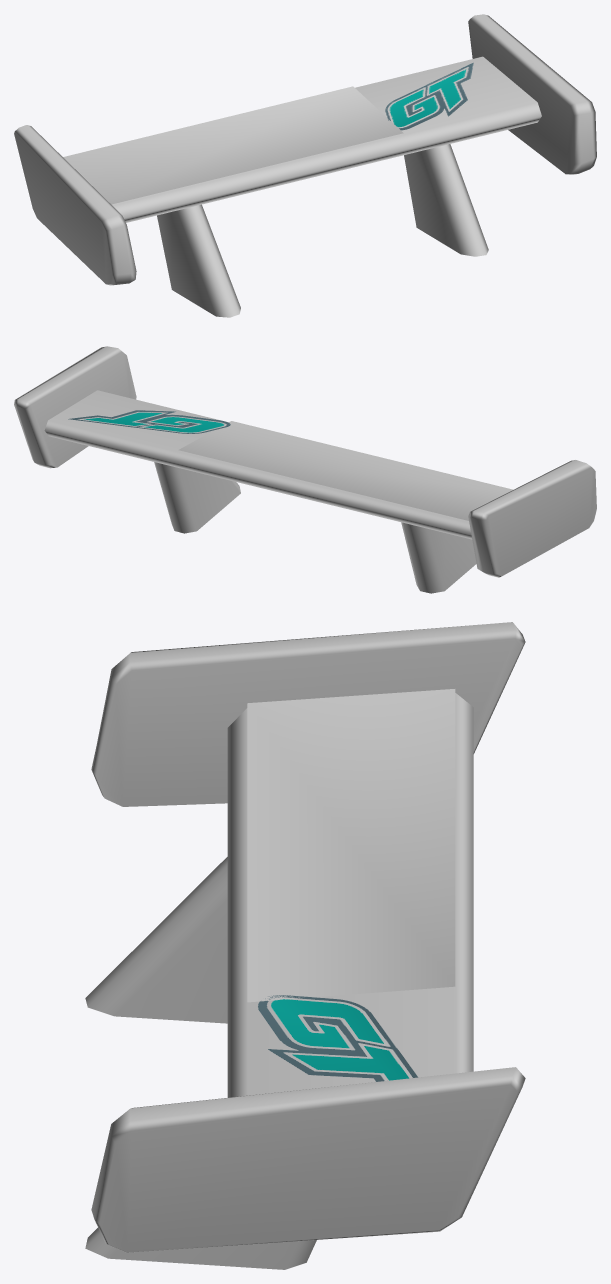
The model's file is Car_01_Spoiler.fbx.
The picture shows the model from 3 angles, top to bottom: view 1: azimuth 30°, elevation 25°; view 2: azimuth 150°, elevation 25°; view 3: azimuth 270°, elevation 25°; orthographic projection. The views are drawn at different scales.
Parts seen in each view (by area): view 1: Car_01_Spoiler; view 2: Car_01_Spoiler; view 3: Car_01_Spoiler.
Part boxes in pixels (x1,y1,x2,y2): Car_01_Spoiler: (14, 14, 596, 317); Car_01_Spoiler: (14, 346, 596, 593); Car_01_Spoiler: (85, 622, 525, 1269).
Bounding box in the file's own units: 198 × 77.06 × 55.82.
